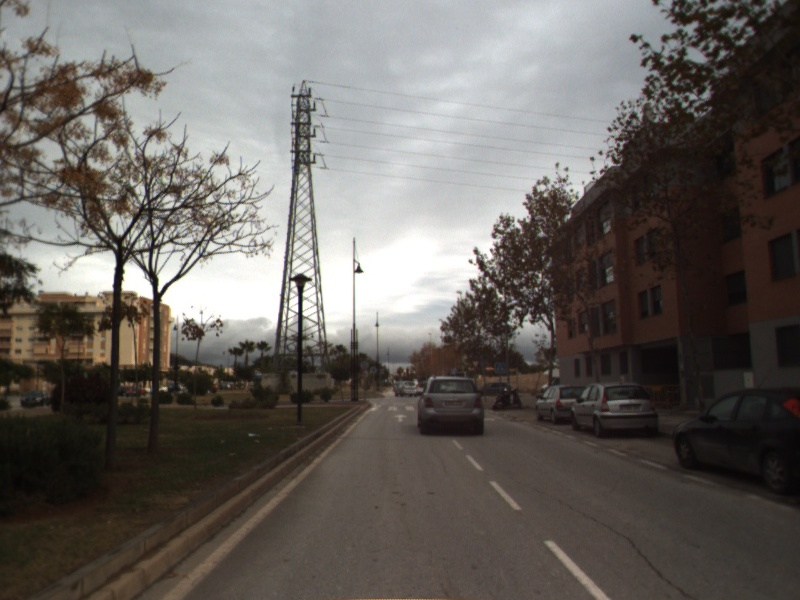STRAIGHT: (392, 412, 409, 424)
